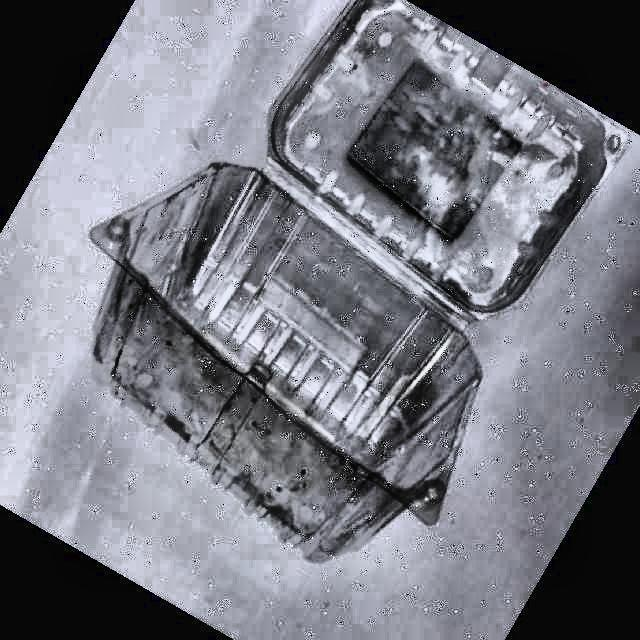plastic: (91, 0, 628, 559)
